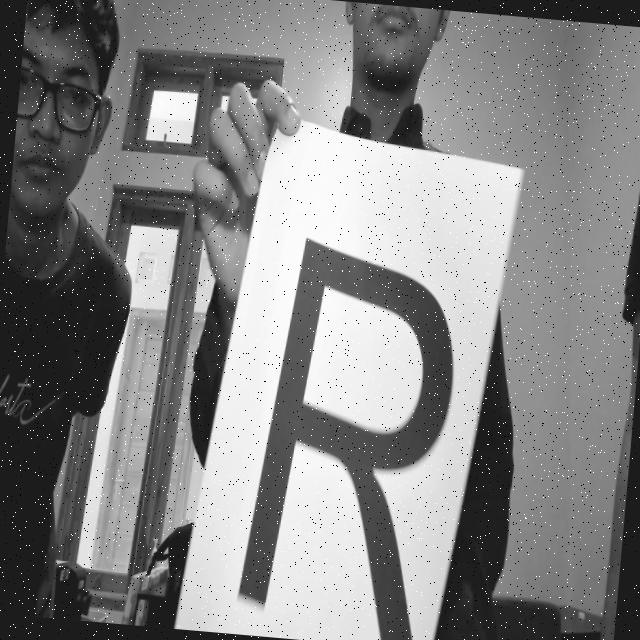r: (204, 190, 497, 640)
